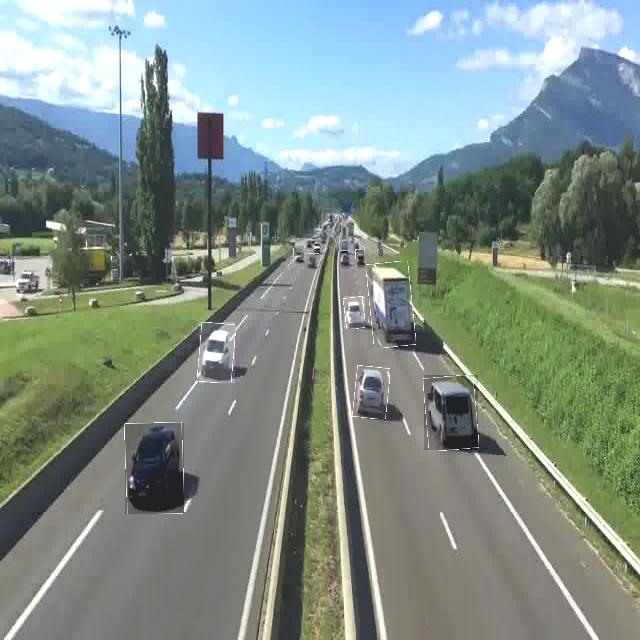Car: (125, 423, 184, 514), (424, 375, 478, 450), (199, 322, 235, 383), (354, 366, 389, 419), (344, 296, 365, 328), (305, 253, 319, 270), (340, 250, 350, 269), (293, 248, 304, 264), (356, 249, 365, 268)
Truck: (368, 262, 414, 348)
